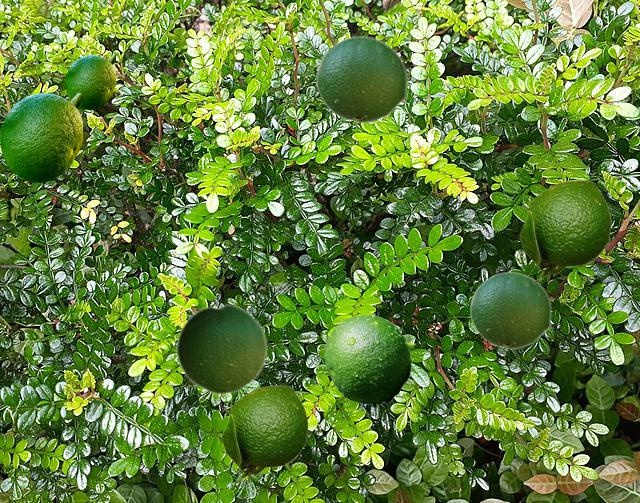dalandan: (518, 180, 610, 283), (175, 302, 267, 395), (220, 385, 307, 483), (324, 314, 414, 407), (315, 35, 407, 123), (0, 93, 81, 181), (469, 271, 551, 349), (65, 55, 114, 108)
